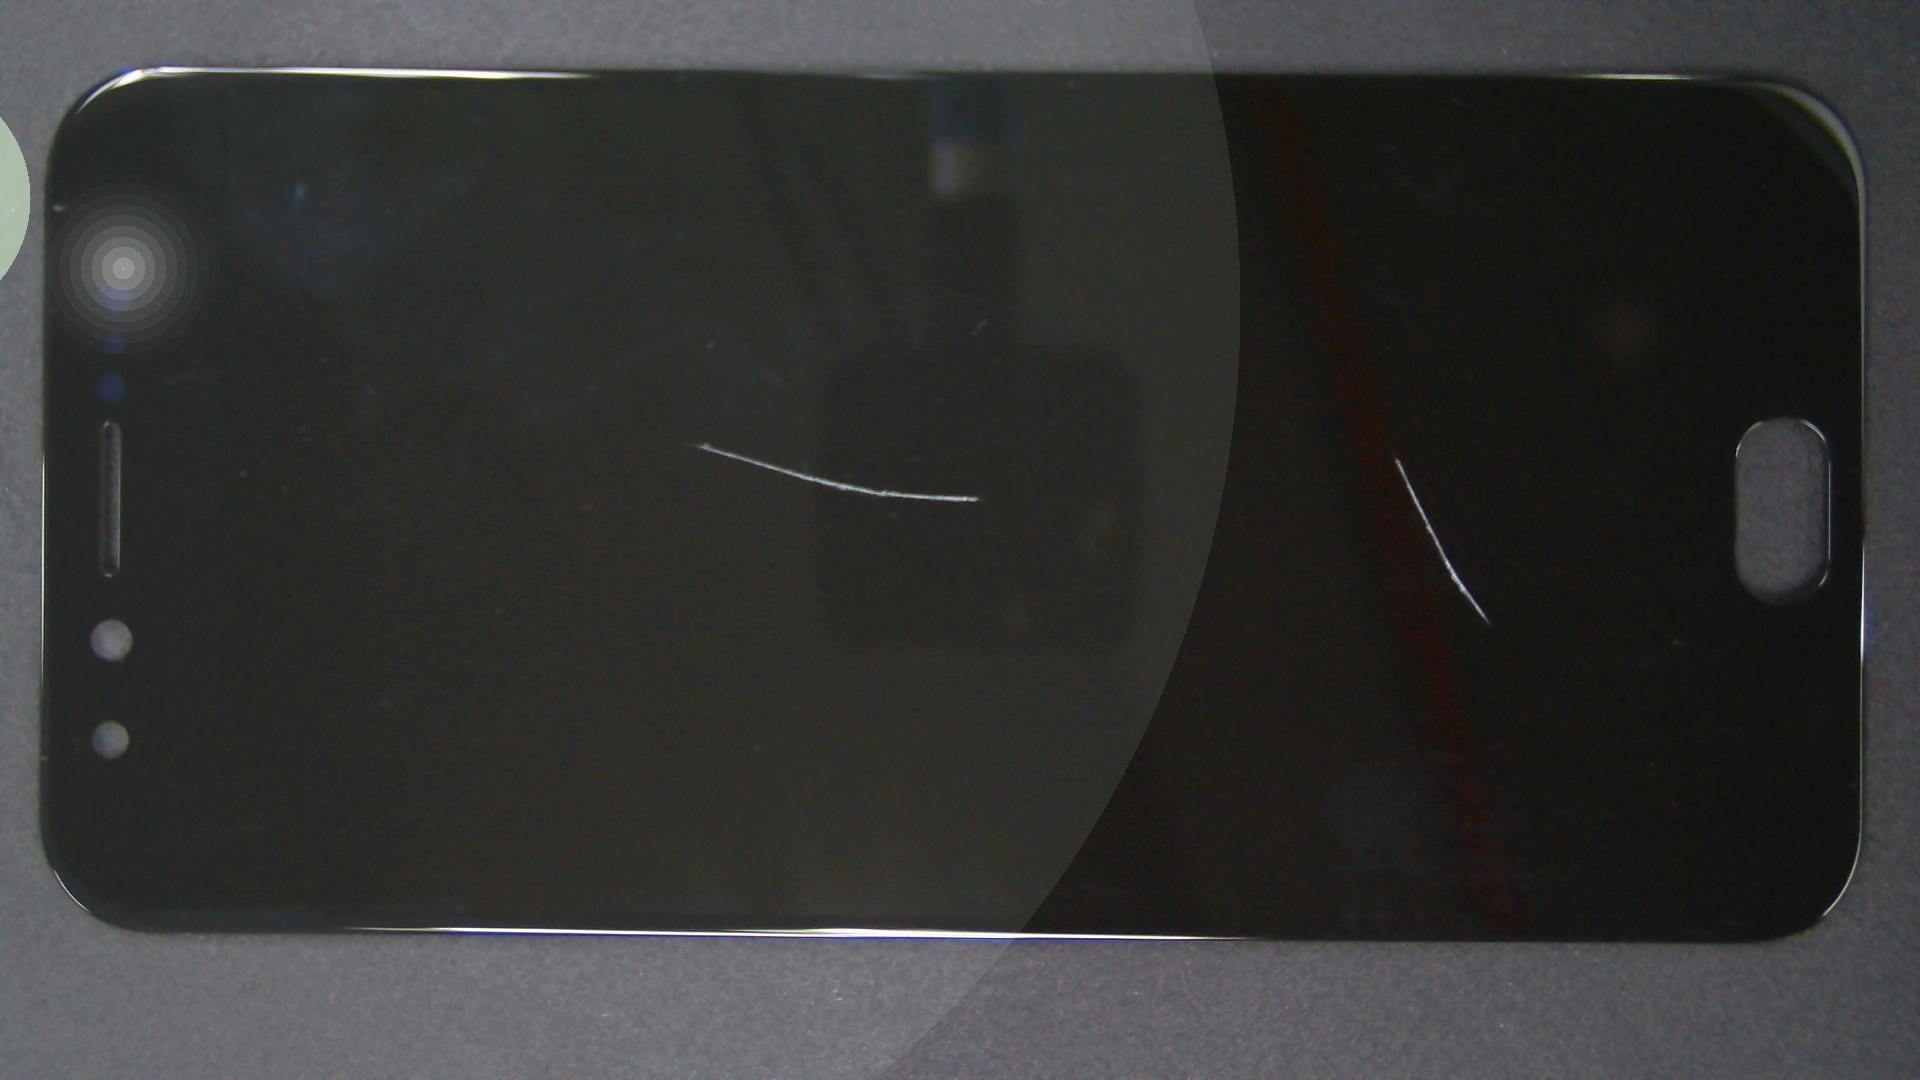oil: (699, 228, 1920, 687), (353, 220, 1059, 663)
